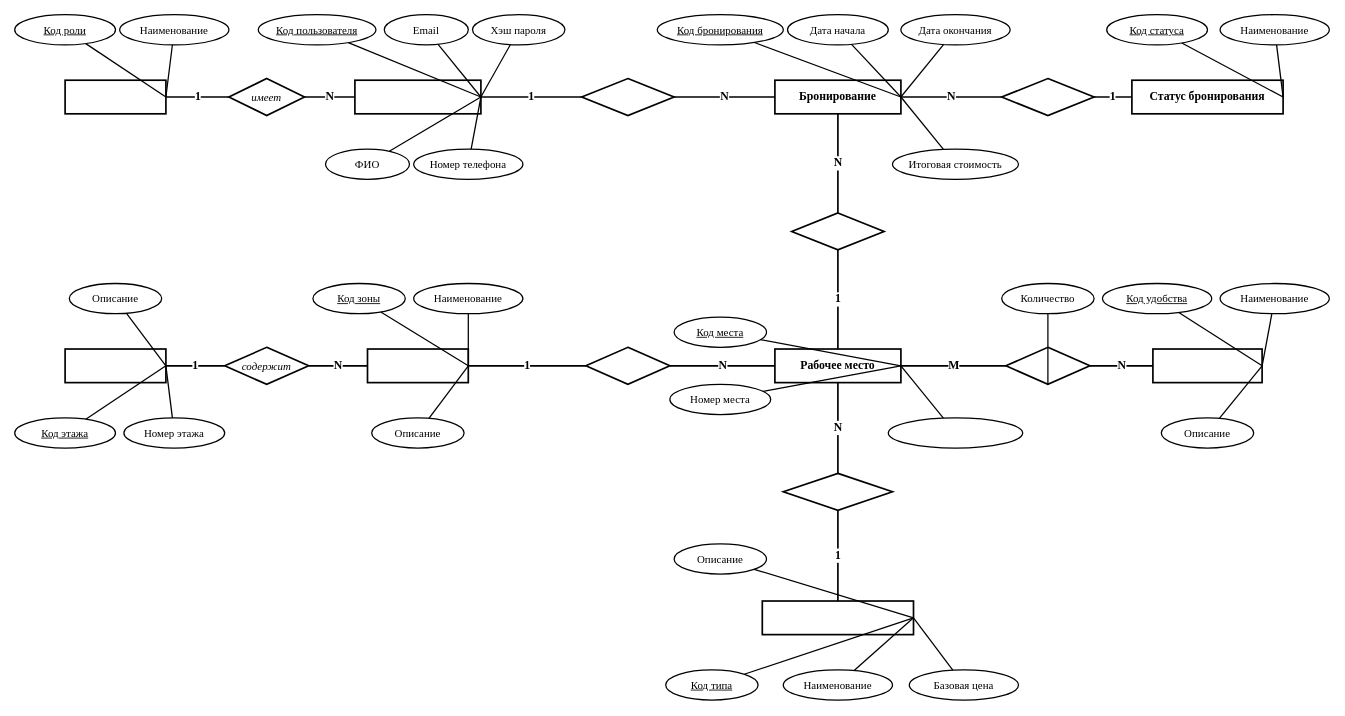
The diagram is 1345 pixels wide and 716 high, and some of its shapes have lost their labels. Here are the shapes that lost their labels. From the top down, the centre of each, then its label:
(115,96): Роль
(417,96): Пользователь
(627,96): оформляет
(1047,96): определяет
(837,231): бронирует
(115,365): Этаж
(417,365): Зона
(627,365): включает
(1047,365): оснащено
(1207,365): Удобство
(955,432): Дополнительная цена
(837,491): классифицирует
(837,617): Тип рабочего места
